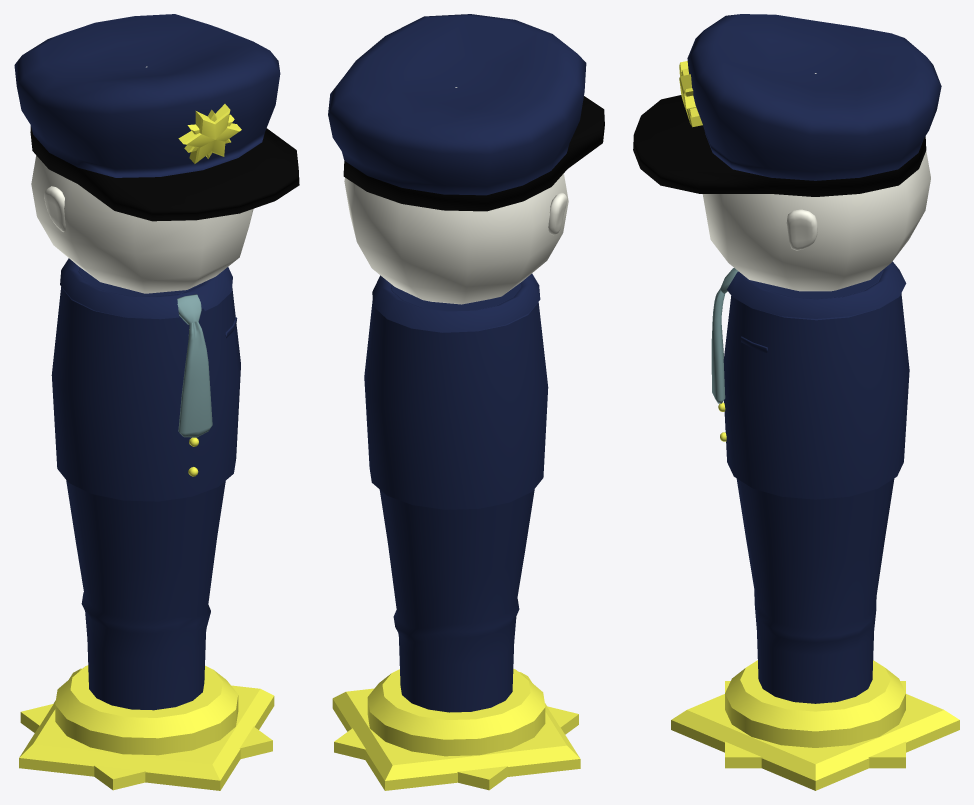
The model's file is KeibiinModel 1.fbx.
3 renders of one model, left to right at view 1: azimuth 30°, elevation 25°; view 2: azimuth 150°, elevation 25°; view 3: azimuth 270°, elevation 25°, orthographic. The views are drawn at different scales.
Parts seen in each view (by area): view 1: daimaru1; view 2: daimaru1; view 3: daimaru1.
Boxes of the visible parts, <box> form: daimaru1: <box>14,14,299,790</box>; daimaru1: <box>328,14,604,790</box>; daimaru1: <box>633,14,959,790</box>.
Size of the model in its own units: 75.31 by 198 by 85.24.
